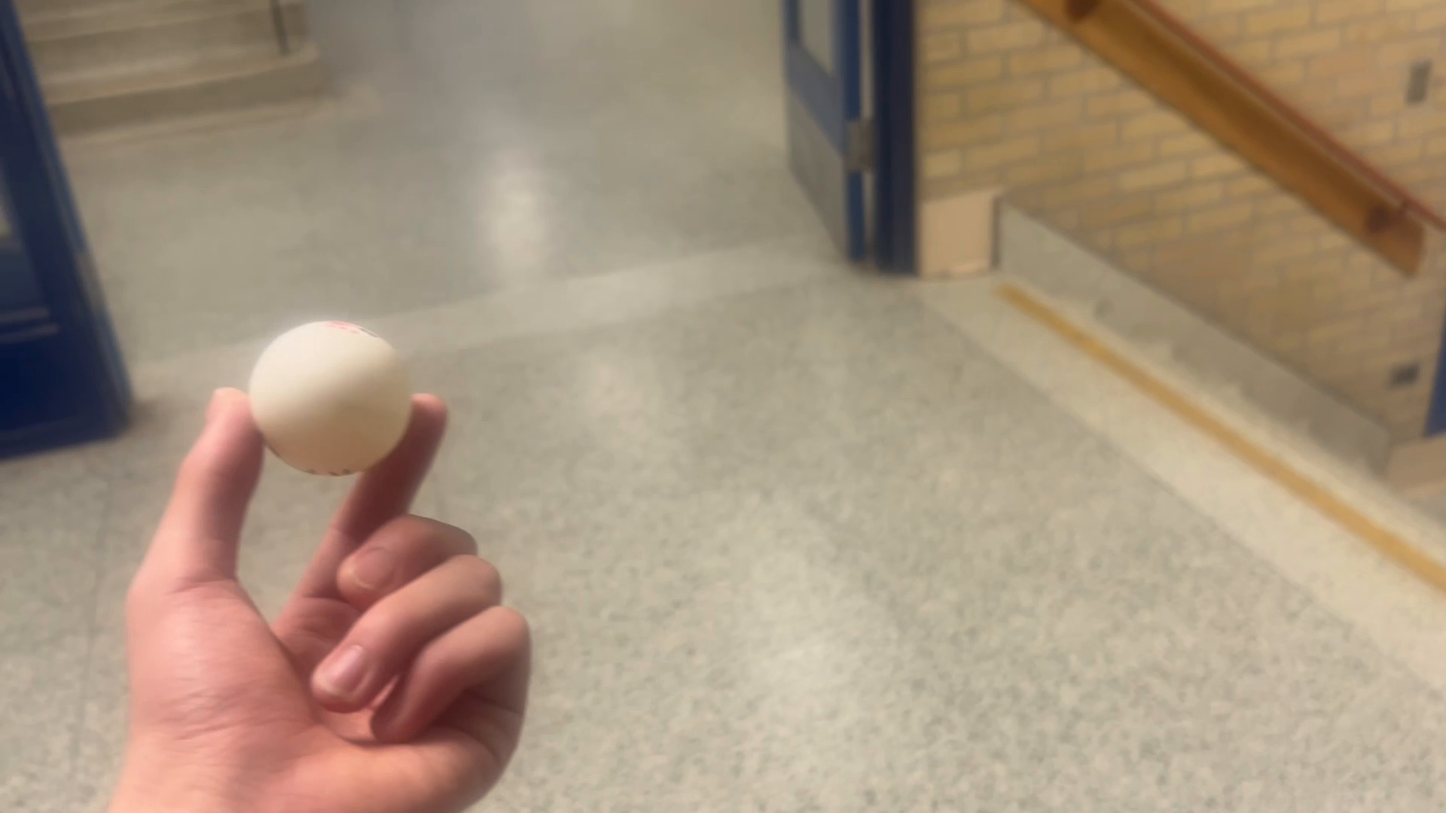Ball: (256, 317, 406, 466)
